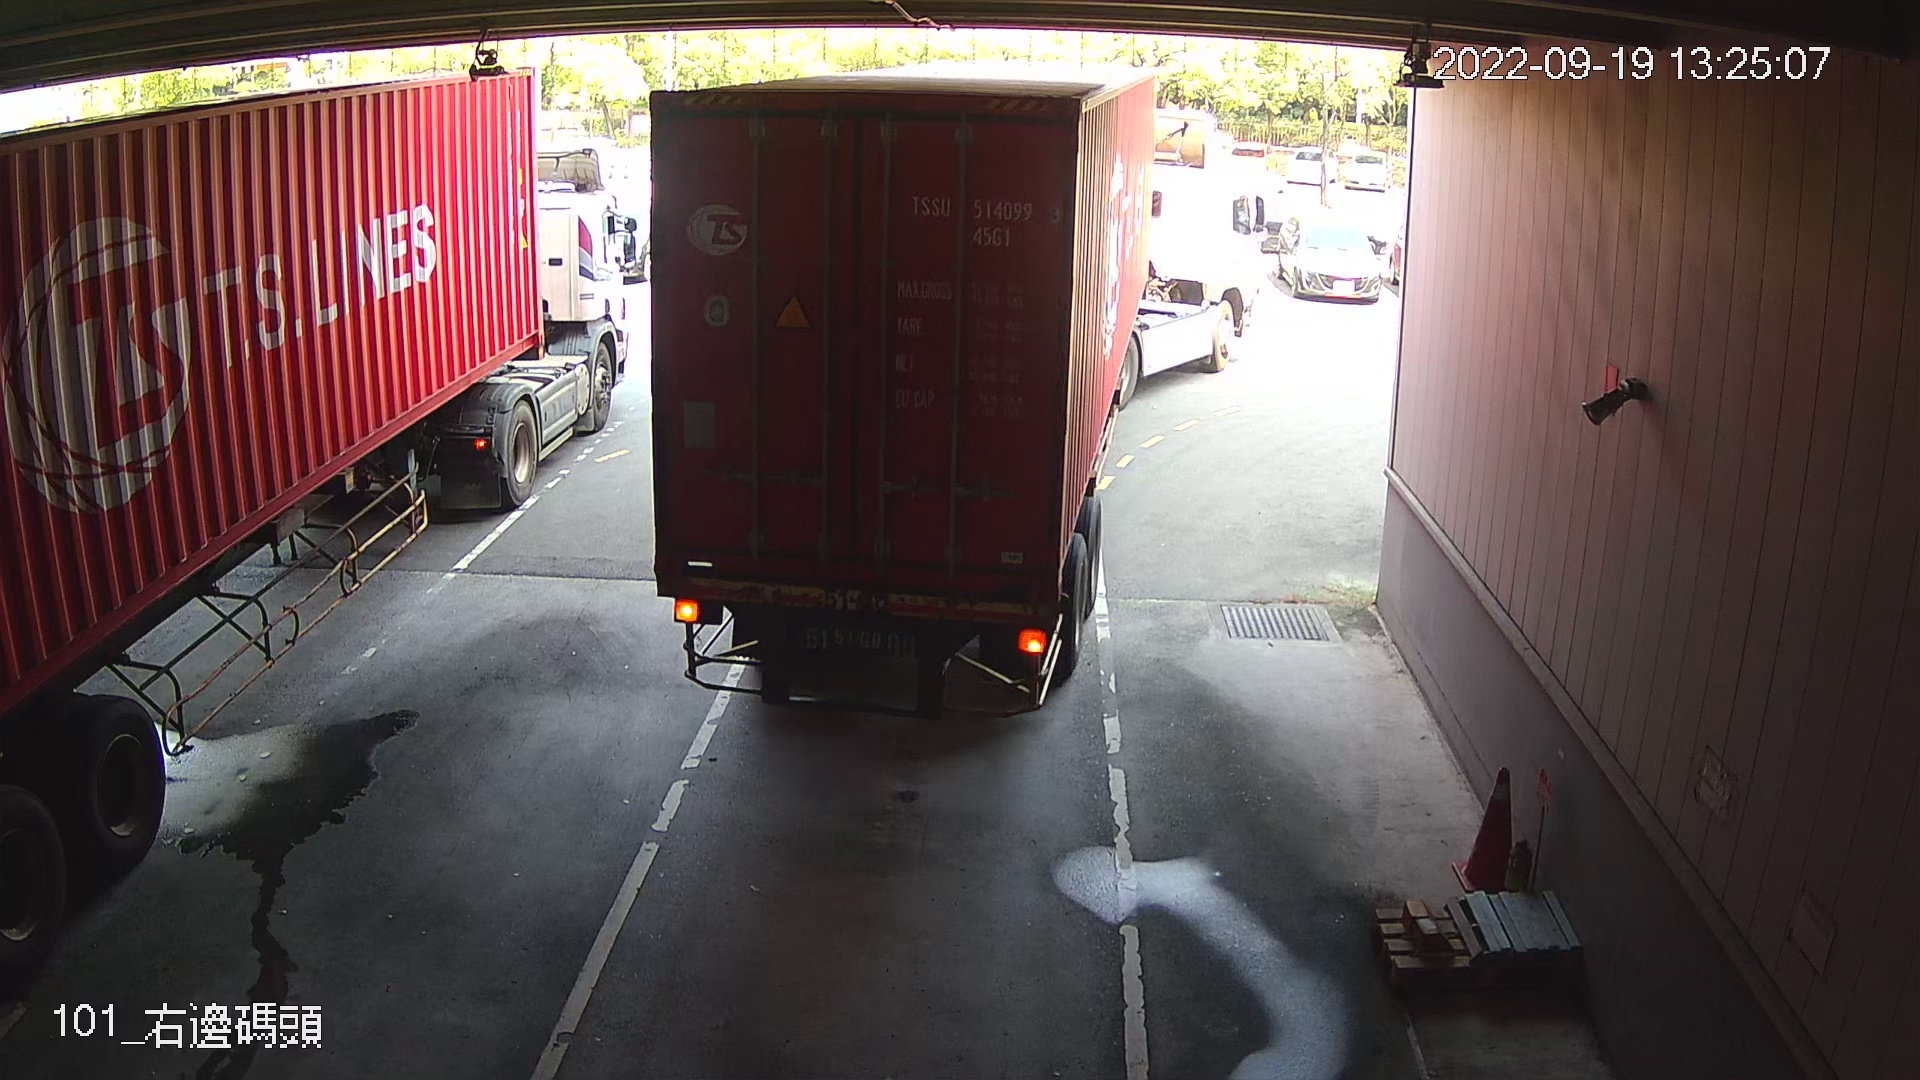container: (906, 186, 1069, 252)
